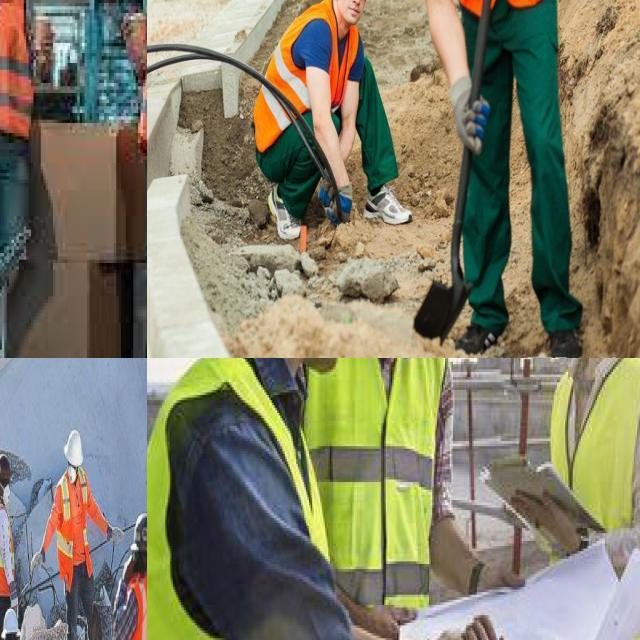face_nomask: (342, 0, 369, 24)
hand_glove: (445, 69, 494, 159), (324, 179, 360, 233), (28, 544, 46, 580), (107, 516, 126, 550)
hand_noglove: (506, 484, 582, 558)
head_helmet: (64, 433, 82, 465), (0, 611, 18, 635)
person: (360, 0, 566, 341), (174, 358, 347, 640), (259, 0, 398, 230), (537, 358, 640, 640), (336, 358, 485, 530), (0, 0, 28, 358), (52, 426, 97, 640), (0, 449, 18, 607)
shoes: (356, 181, 416, 230), (456, 307, 506, 358), (265, 181, 303, 244)
vest: (147, 358, 310, 625), (336, 358, 445, 612), (555, 358, 640, 630), (254, 12, 358, 138), (0, 0, 38, 119), (59, 478, 88, 570), (0, 506, 13, 593)
